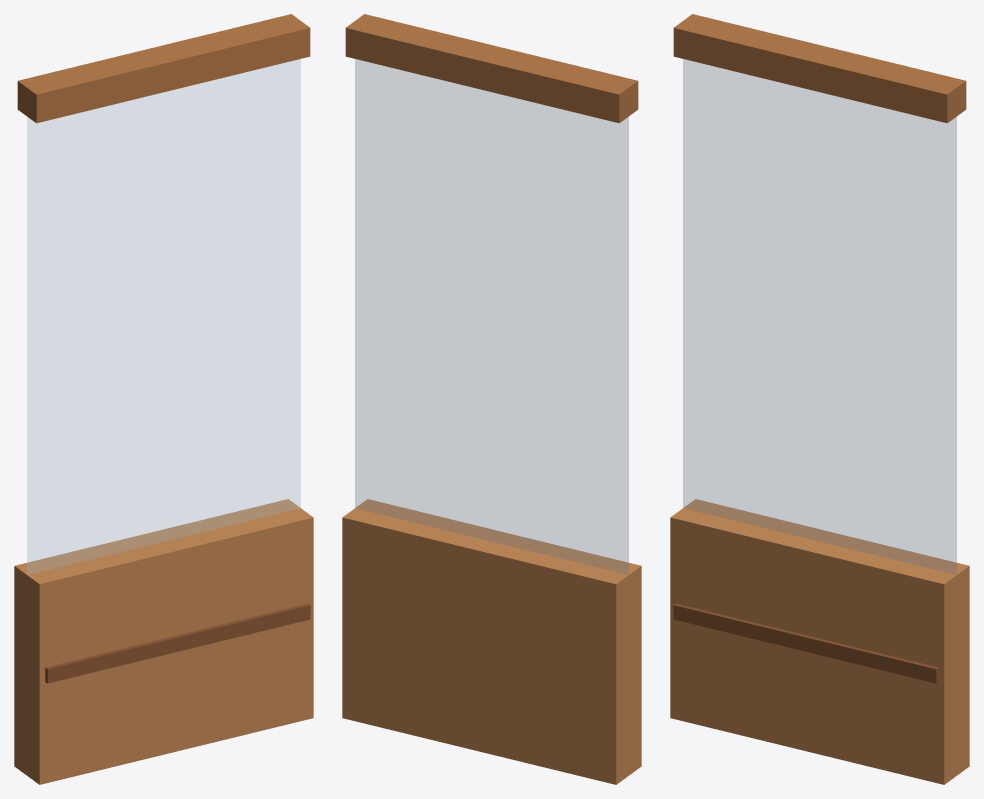
The model's file is terrarium_front.glb.
3 views of the same model, side by side, from view 1: azimuth 30°, elevation 25°; view 2: azimuth 150°, elevation 25°; view 3: azimuth 330°, elevation 25° (orthographic).
Parts seen in each view (by area): view 1: terrarium_front; view 2: terrarium_front; view 3: terrarium_front.
Boxes of the visible parts, x1,y1,x2,y2 form: terrarium_front: (14,14,313,784); terrarium_front: (342,14,641,784); terrarium_front: (670,14,969,784).
Size of the model in its own units: 1 by 2.4 by 0.175.
Materials: 2 (1 with a texture image).
